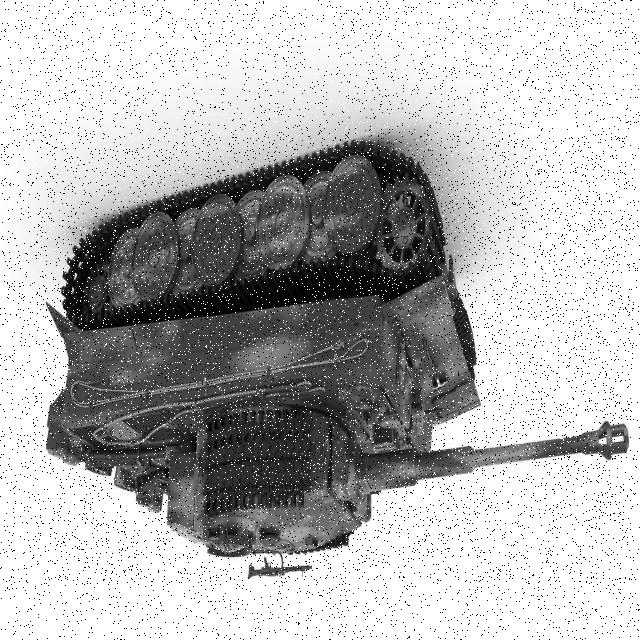MIL_MBT: (34, 133, 635, 582)
